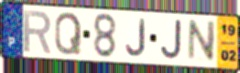8: (92, 12, 118, 59)
J: (159, 19, 184, 61), (125, 18, 148, 58)
N: (186, 20, 218, 64)
Q: (53, 10, 83, 56)
R: (22, 9, 54, 55)
